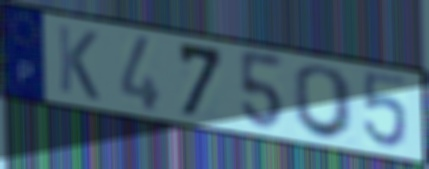4: (117, 32, 164, 115)
5: (238, 47, 286, 135), (361, 68, 410, 154)
7: (176, 40, 226, 120)
K: (55, 22, 102, 104)
O: (291, 62, 358, 143)
